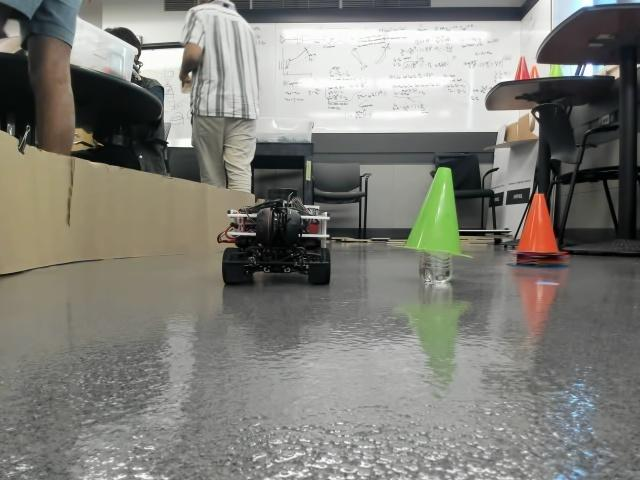Car: (221, 199, 331, 284)
